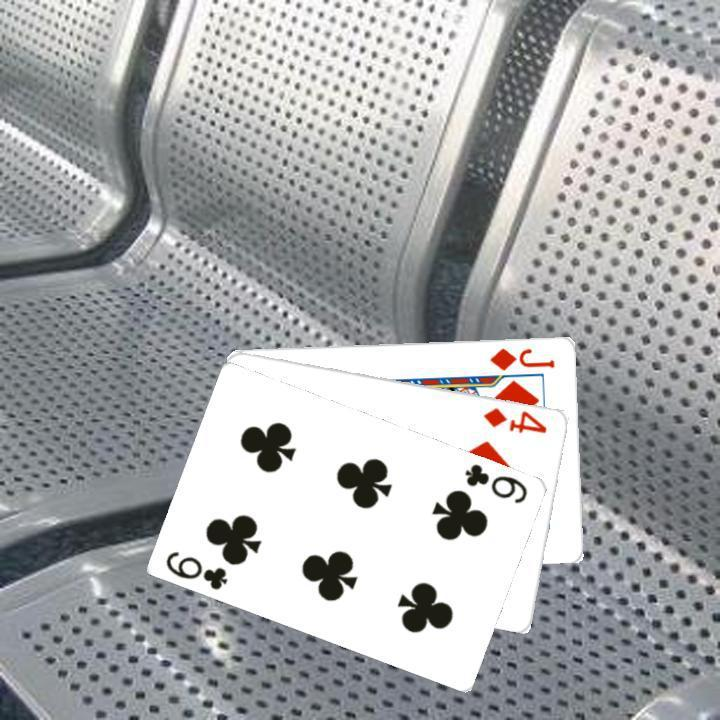4: (480, 402, 550, 435)
6: (461, 459, 530, 506), (162, 546, 231, 592)
J: (485, 343, 557, 372)
